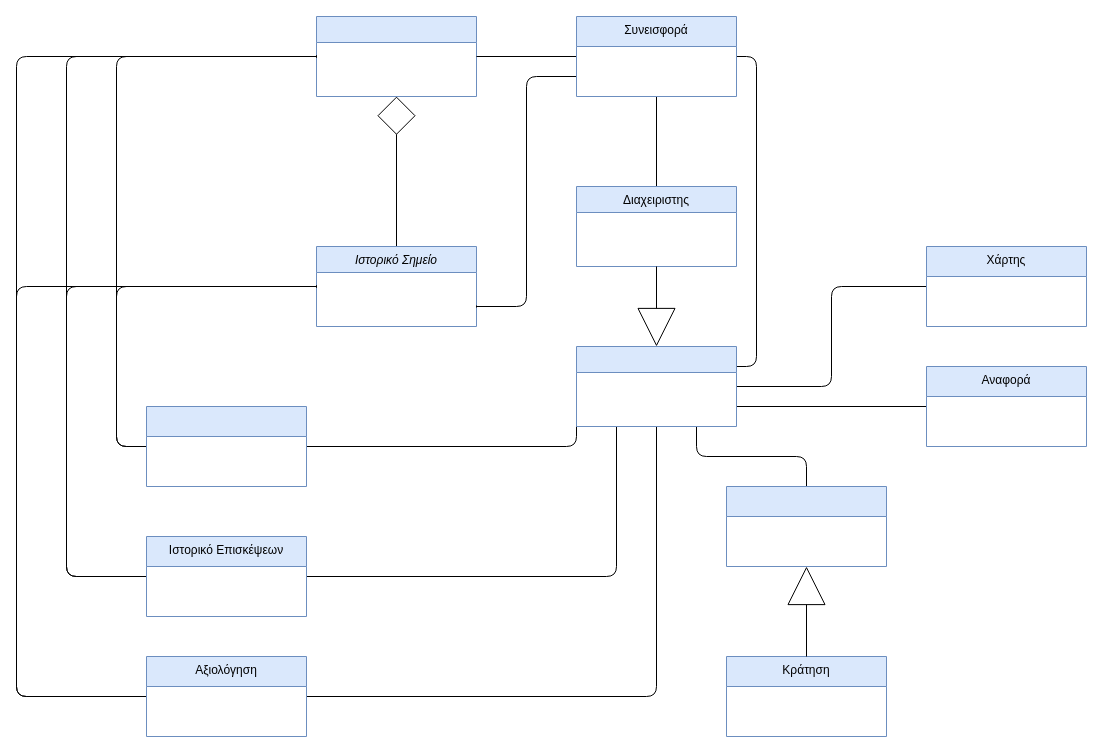
Image size: 1103x753. Some labels were removed from this diagram. The shapes that lost their labels are listed below. From the top down, each one's box as (x1, y1, x2, y2) in pixels, then its label:
(316, 16, 476, 96): Ιστορικός Περίπατος
(576, 346, 736, 426): Χρήστης
(146, 406, 306, 486): Αγαπημένα
(726, 486, 886, 566): Ξενάγηση
